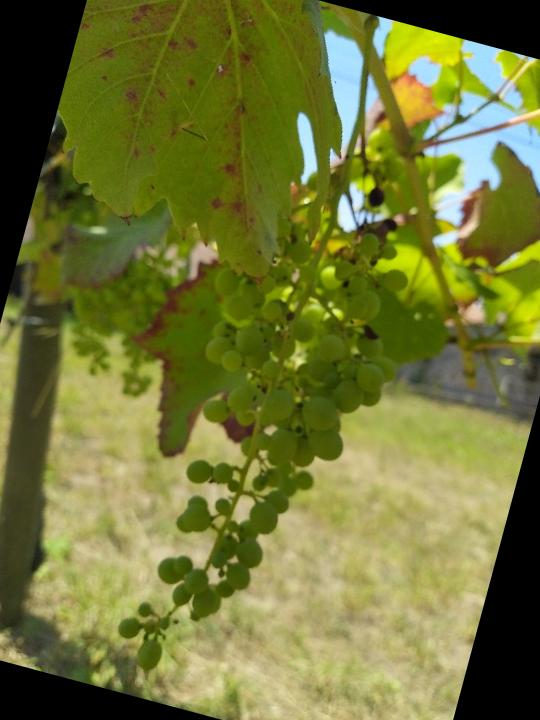grape: (109, 192, 430, 714)
